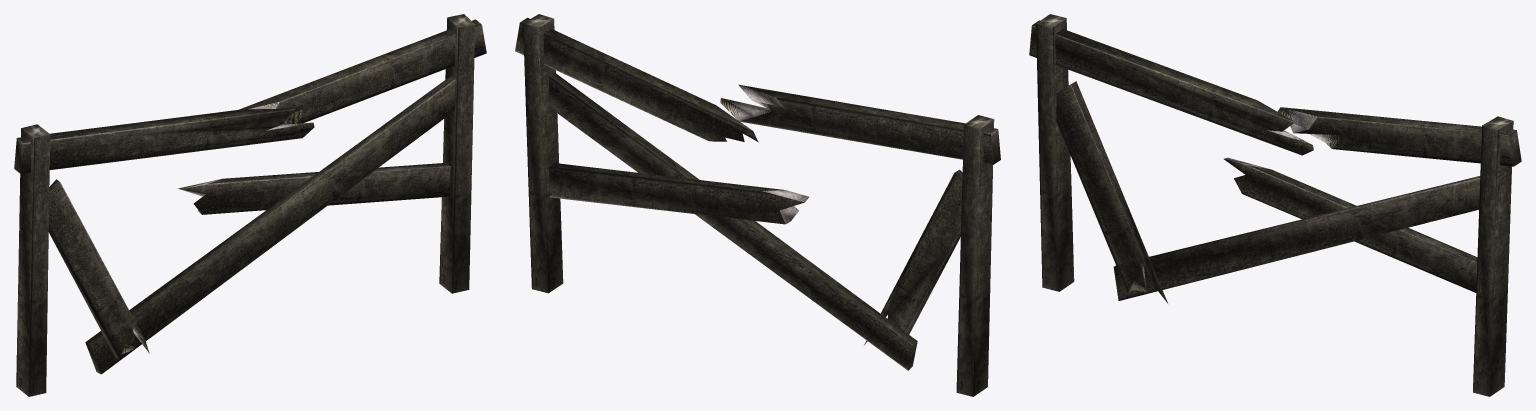
File: GS_MISC_FENCE_02.glb
3 renders of one model, left to right at view 1: azimuth 30°, elevation 25°; view 2: azimuth 150°, elevation 25°; view 3: azimuth 330°, elevation 25°, orthographic.
Parts seen in each view (by area): view 1: Mesh; view 2: Mesh; view 3: Mesh.
Part boxes in pixels (box(x1,y1,x2,y2)): Mesh: box(14, 14, 486, 396); Mesh: box(515, 14, 1000, 396); Mesh: box(1029, 14, 1521, 396).
Bounding box in the file's own units: 2.36 × 1.26 × 0.244.
2 materials, 2 textured.
